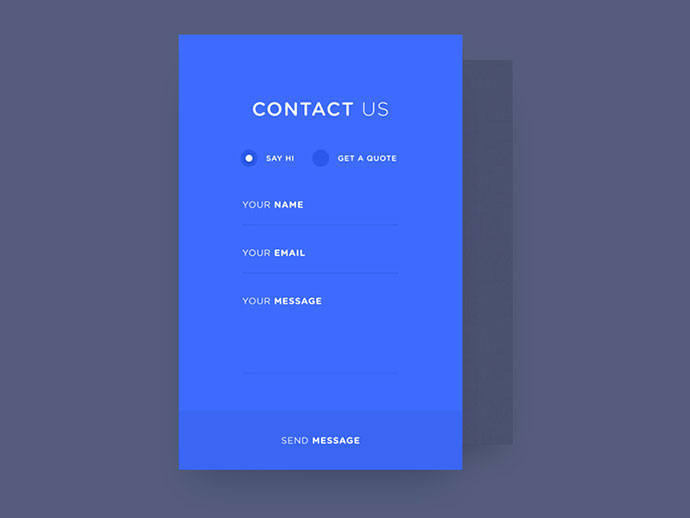_form_: (93, 55, 510, 471)
field_line: (241, 295, 399, 376), (240, 198, 401, 227), (241, 247, 400, 275)
radio: (312, 148, 331, 167), (241, 149, 259, 166)
radio_with_label: (309, 146, 397, 169), (239, 146, 297, 168)
